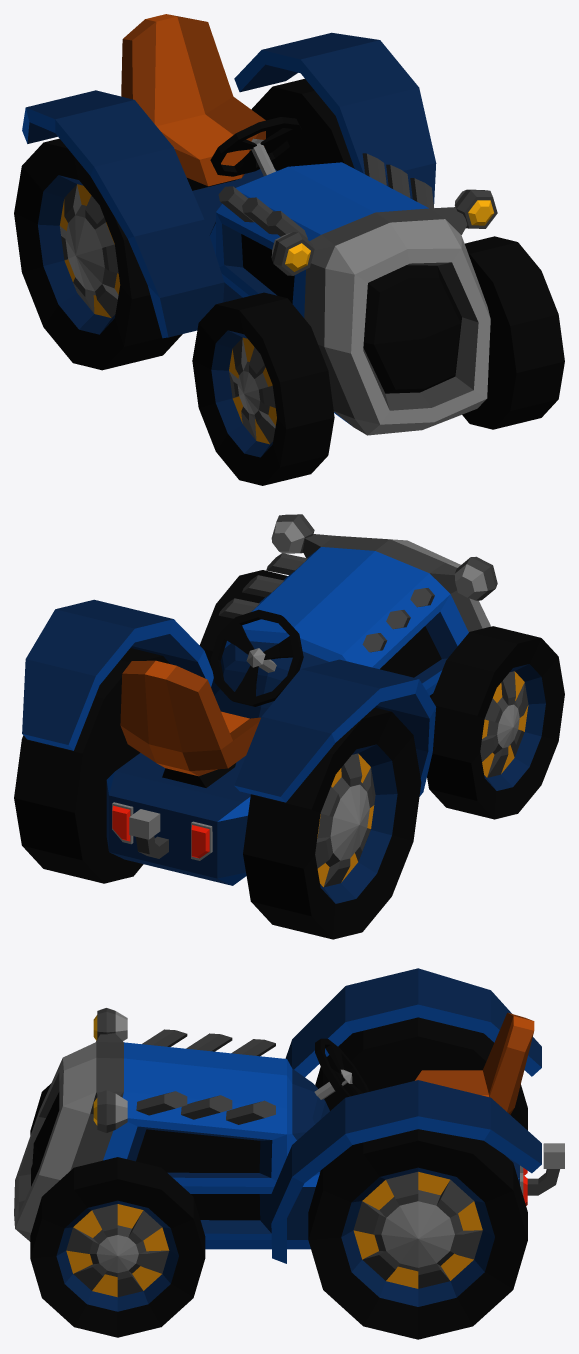
File: Traktor_3.fbx
3 views of the same model, one above another, from view 1: azimuth 30°, elevation 25°; view 2: azimuth 150°, elevation 25°; view 3: azimuth 270°, elevation 25° (orthographic). The views are drawn at different scales.
Parts seen in each view (by area): view 1: Tracktor_3, Tracktor_3_FW, Tracktor_3_BW; view 2: Tracktor_3, Tracktor_3_BW, Tracktor_3_FW; view 3: Tracktor_3, Tracktor_3_BW, Tracktor_3_FW.
Boxes of the visible parts, <box> form: Tracktor_3: <box>22,14,497,435</box>; Tracktor_3_FW: <box>192,236,564,485</box>; Tracktor_3_BW: <box>14,78,354,370</box>; Tracktor_3: <box>22,514,497,885</box>; Tracktor_3_BW: <box>14,648,421,939</box>; Tracktor_3_FW: <box>199,570,564,819</box>; Tracktor_3: <box>14,968,564,1263</box>; Tracktor_3_BW: <box>308,1017,527,1339</box>; Tracktor_3_FW: <box>30,1083,205,1337</box>.
Bounding box in the file's own units: 470 × 376 × 740.
